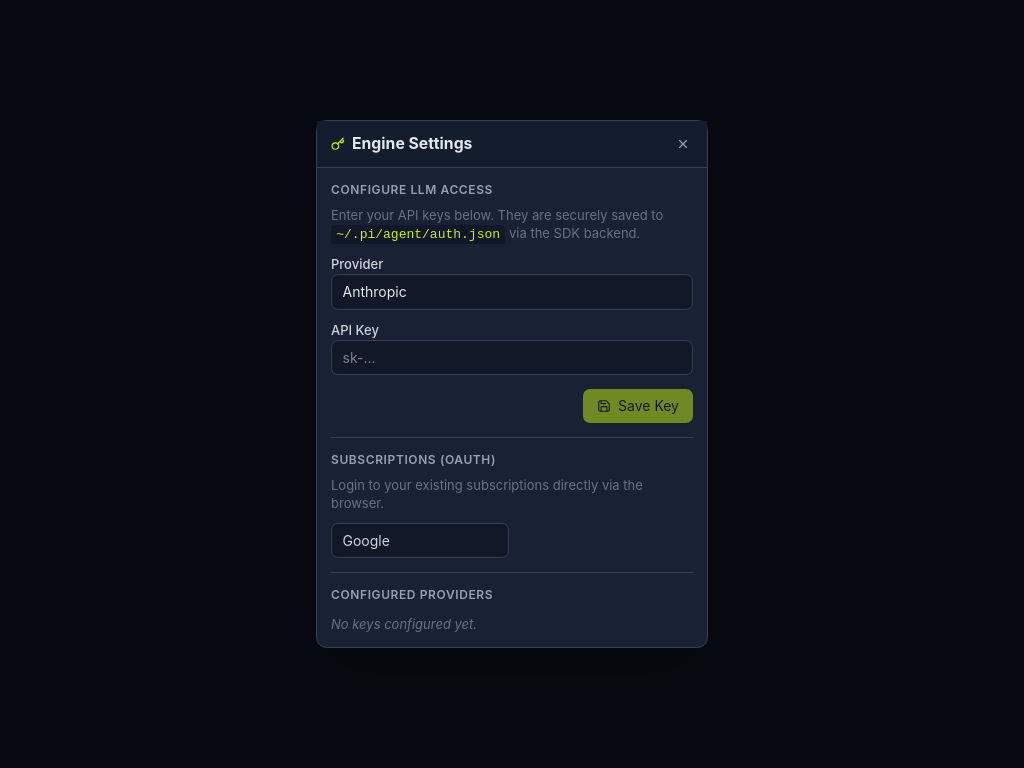
Test case: SettingsModal › shows error message when save key fails
The width and height of the screenshot is (1024, 768).
Step 1. Type "bad-key-123" into the password field with placeholder "sk-..." → (512, 358), box [331,340,693,375]
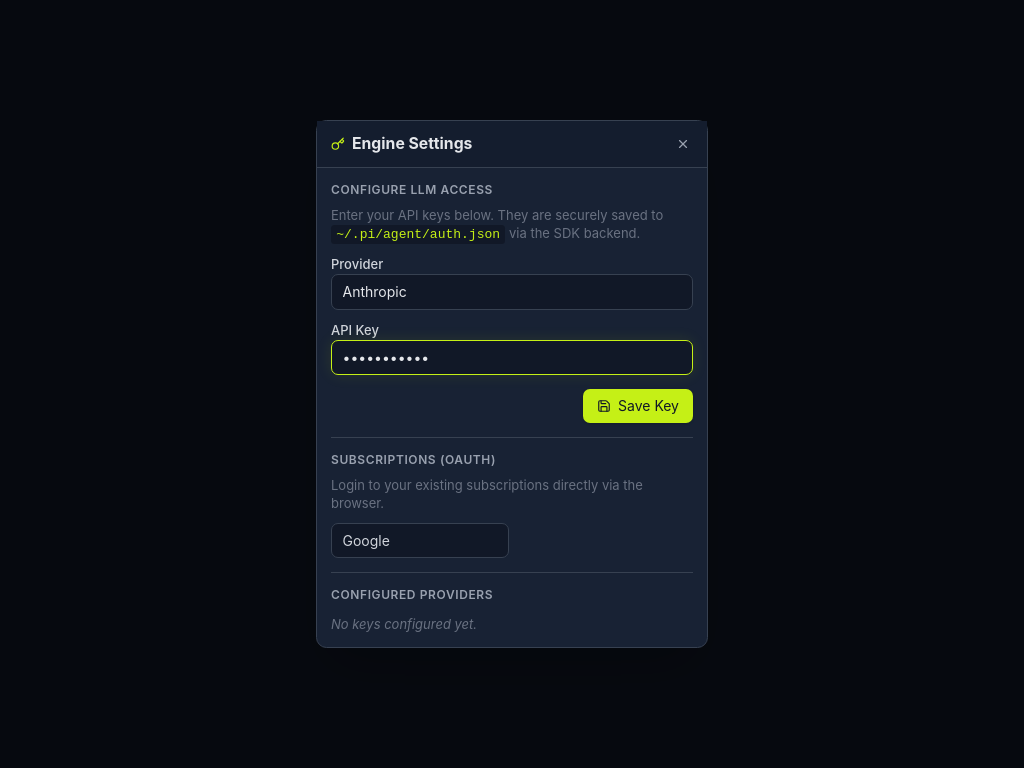
Step 2. Click the button "Save Key" → (638, 406), box [583,389,693,423]
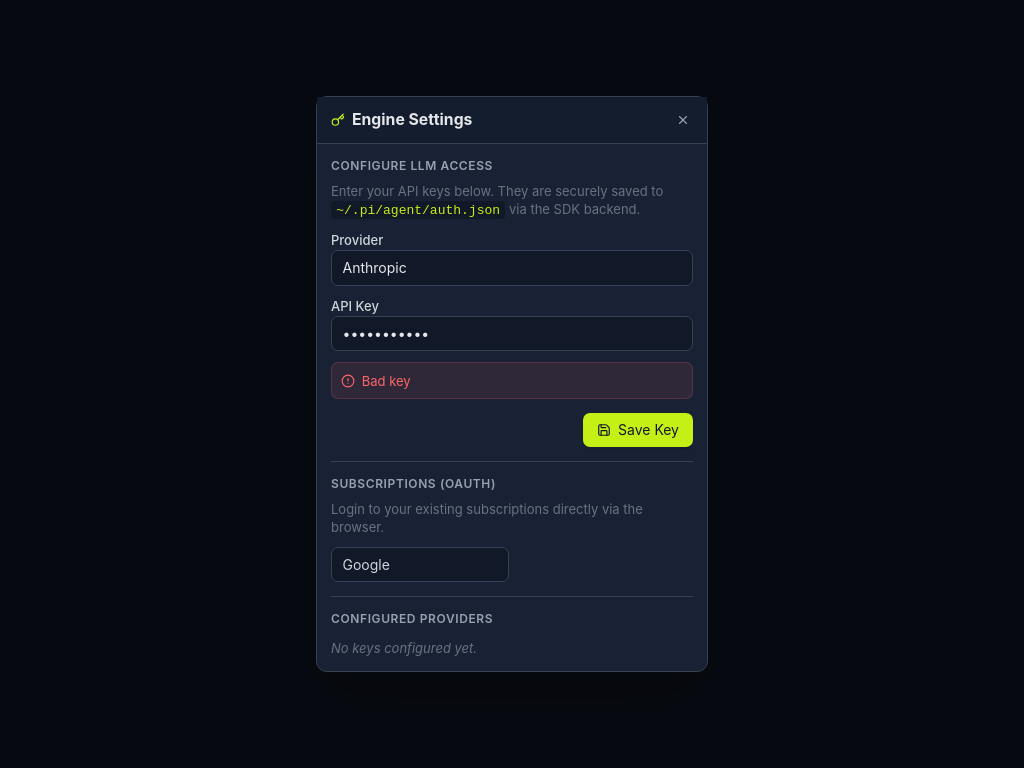
Now the text "Bad key" is shown, box [331,362,693,400]
